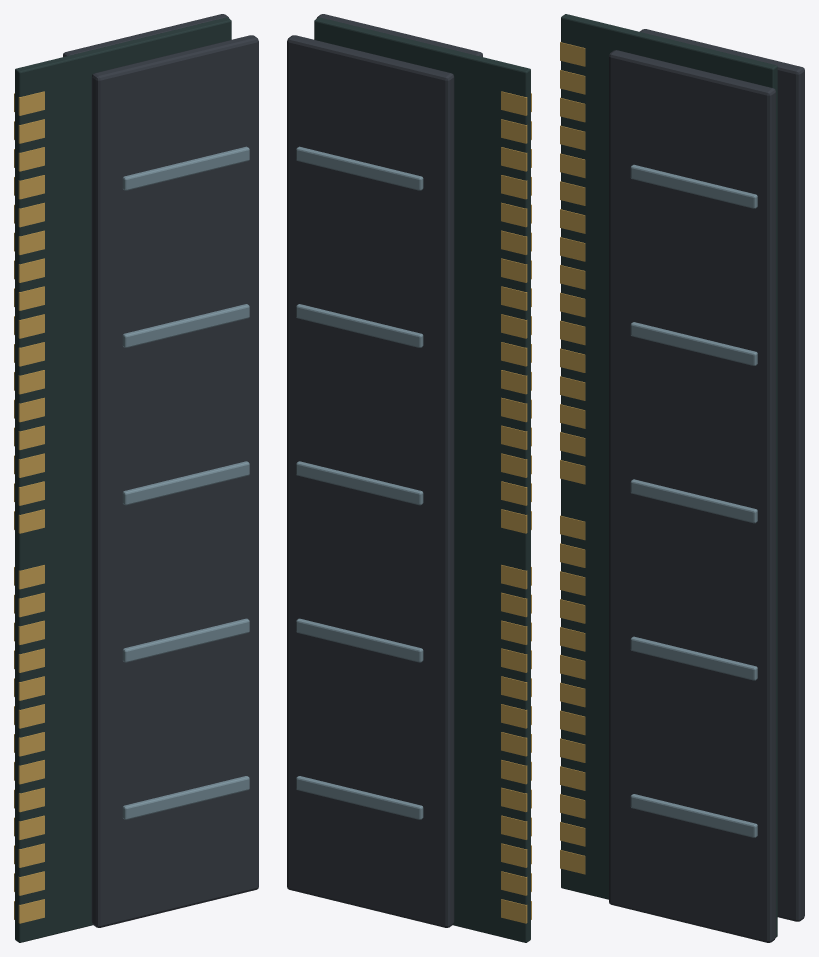
Rendered from ram.glb.
3 views of the same model, side by side, from view 1: azimuth 30°, elevation 25°; view 2: azimuth 150°, elevation 25°; view 3: azimuth 330°, elevation 25° (orthographic).
Visible parts, largest first — view 1: RAM_Paint_Graphite, RAM_PCB_Deep_Slate, RAM_Contact_Gold, RAM_Accent_Slate; view 2: RAM_Paint_Graphite, RAM_PCB_Deep_Slate, RAM_Contact_Gold, RAM_Accent_Slate; view 3: RAM_Paint_Graphite, RAM_PCB_Deep_Slate, RAM_Contact_Gold, RAM_Accent_Slate.
Boxes of the visible parts, box(x1,y1,x2,y2) form: RAM_Paint_Graphite: box(63, 14, 258, 927); RAM_PCB_Deep_Slate: box(15, 17, 231, 942); RAM_Contact_Gold: box(14, 91, 44, 923); RAM_Accent_Slate: box(122, 146, 249, 819); RAM_Paint_Graphite: box(287, 14, 482, 927); RAM_PCB_Deep_Slate: box(314, 17, 530, 942); RAM_Contact_Gold: box(501, 91, 531, 923); RAM_Accent_Slate: box(296, 146, 423, 819); RAM_Paint_Graphite: box(609, 29, 804, 942); RAM_PCB_Deep_Slate: box(561, 14, 777, 937); RAM_Contact_Gold: box(560, 42, 585, 874); RAM_Accent_Slate: box(630, 164, 757, 837).
Bounding box in the file's own units: 0.036 × 0.133 × 0.0114.
